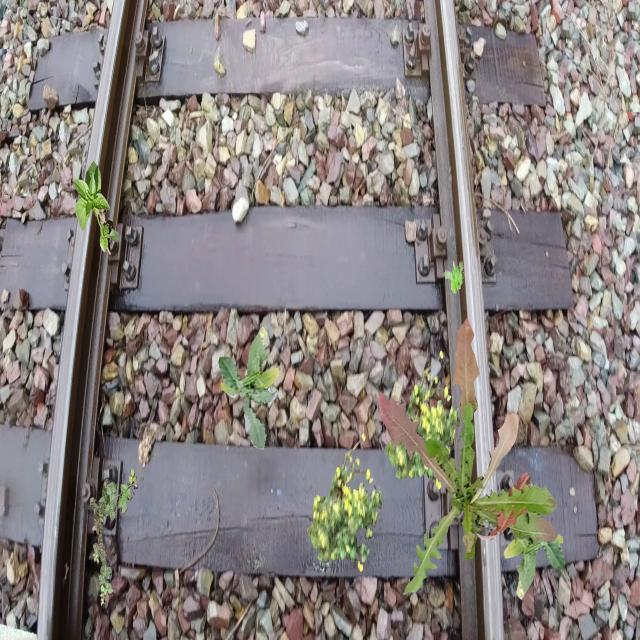Plant: (378, 317, 558, 595), (307, 433, 382, 573), (385, 350, 460, 490), (503, 476, 566, 600), (218, 326, 280, 451), (90, 468, 138, 606), (72, 161, 120, 256), (444, 261, 464, 294)
